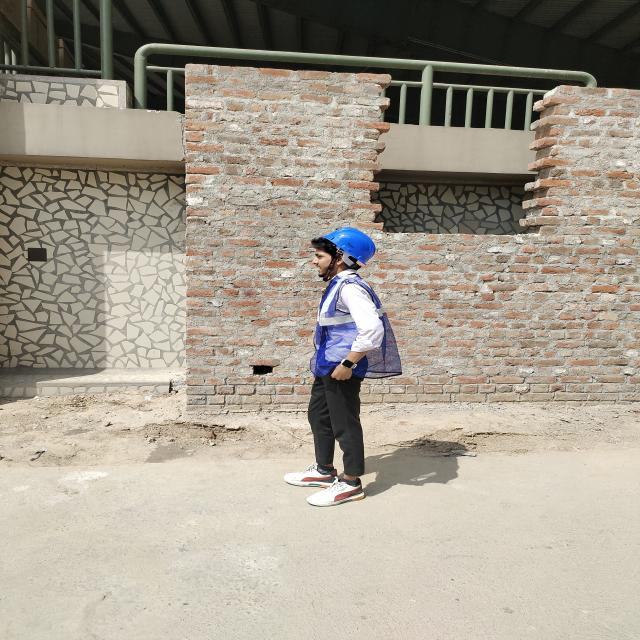safe: (310, 224, 388, 506)
